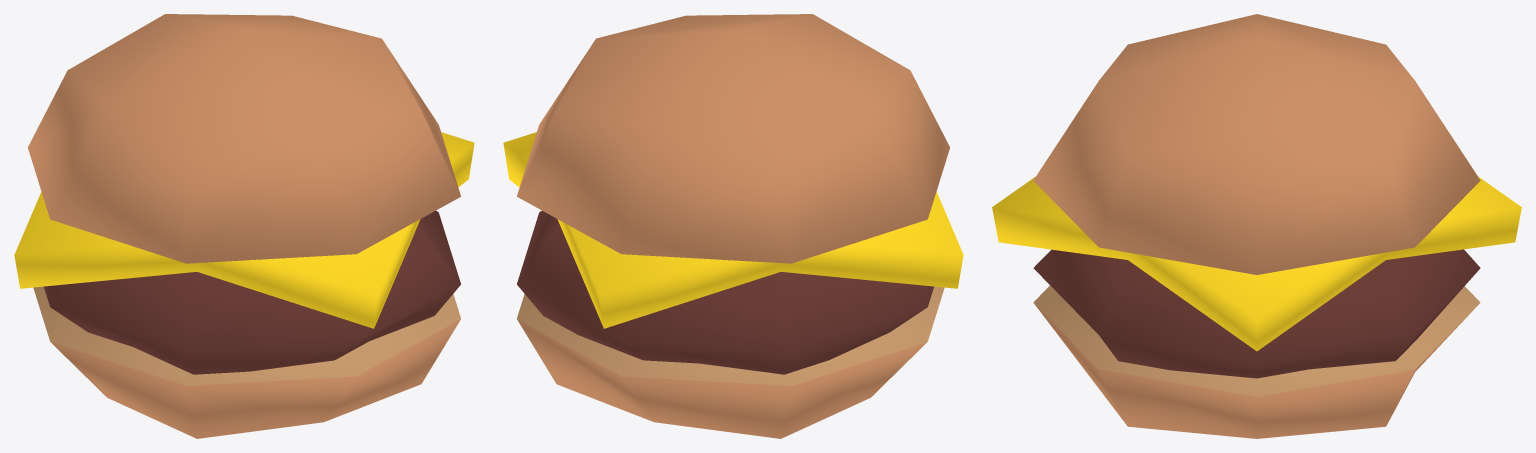
The model's file is burger.glb.
The picture shows the model from 3 angles, left to right: view 1: azimuth 30°, elevation 25°; view 2: azimuth 150°, elevation 25°; view 3: azimuth 270°, elevation 25°; orthographic projection.
Parts seen in each view (by area): view 1: burger; view 2: burger; view 3: burger.
Part boxes in pixels (x1=…): burger: x1=14, y1=14, x2=474, y2=438; burger: x1=503, y1=14, x2=963, y2=438; burger: x1=992, y1=14, x2=1521, y2=438.
Bounding box in the file's own units: 1.66 × 1.15 × 1.66.
Materials: 1 (1 with a texture image).
